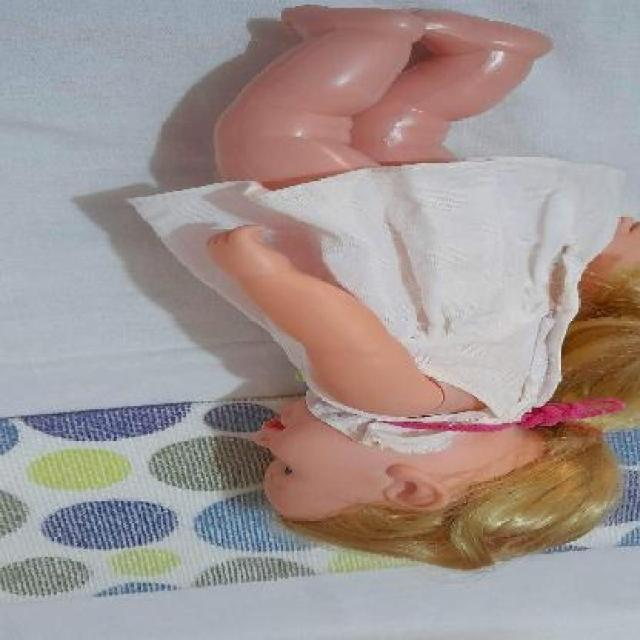non-dog: (131, 3, 640, 573)
